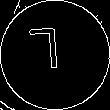L_S: (38, 28, 72, 82)
